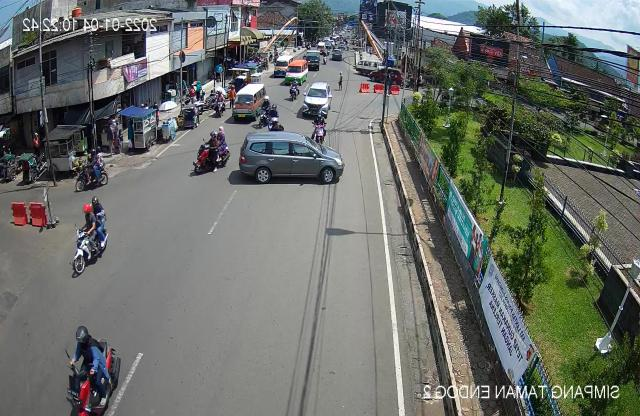Mobil: (235, 128, 346, 194), (230, 81, 270, 127), (298, 78, 336, 125)
Motor: (61, 323, 125, 416), (69, 193, 110, 278), (191, 124, 234, 178), (72, 148, 112, 193), (310, 110, 330, 145)
